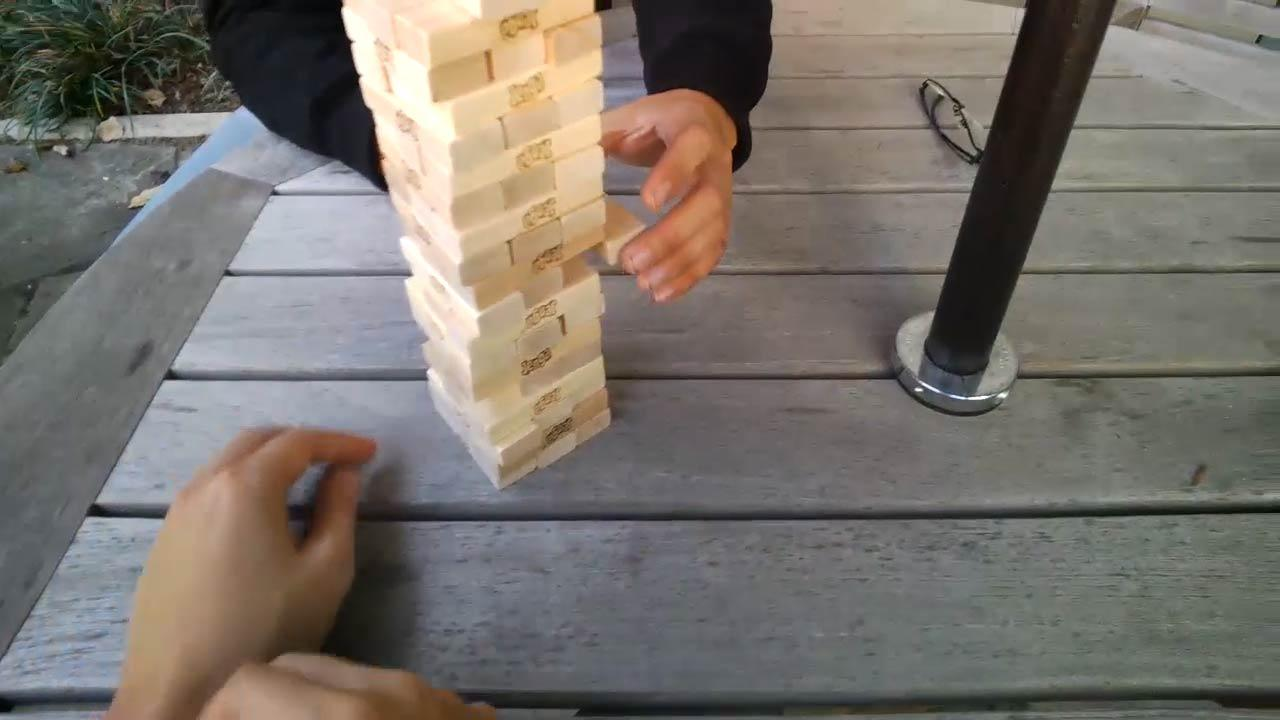hand: (121, 412, 368, 684), (598, 86, 737, 310), (177, 649, 510, 720)
